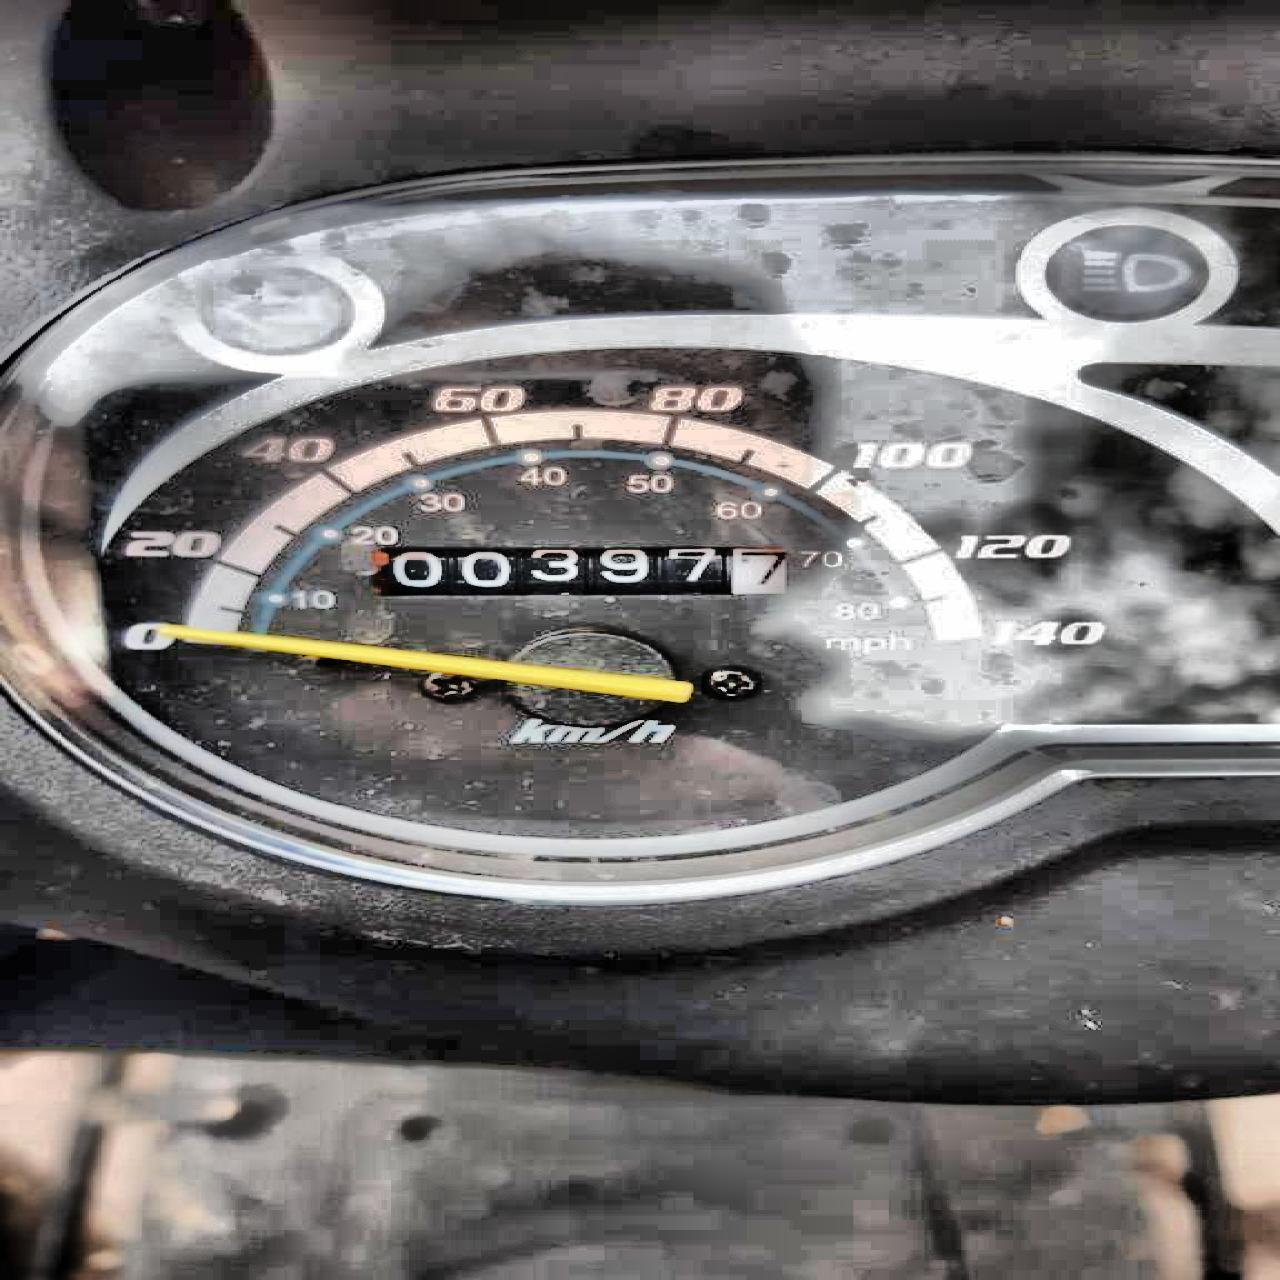0: (456, 549, 511, 587), (389, 549, 442, 587)
3: (524, 545, 580, 581)
7: (662, 545, 716, 581), (735, 547, 787, 585)
9: (593, 546, 648, 584)
odometer: (362, 544, 791, 598)
